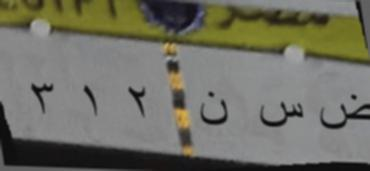1: (77, 78, 106, 124)
2: (116, 76, 154, 122)
3: (25, 73, 61, 121)
daad: (316, 85, 370, 134)
noon: (197, 86, 232, 132)
seen: (245, 88, 308, 140)
